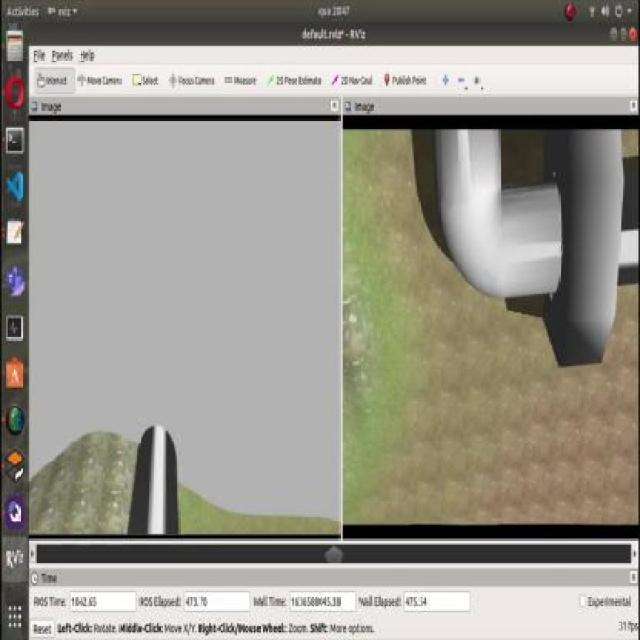gas: (441, 171, 636, 304), (132, 426, 178, 536)
